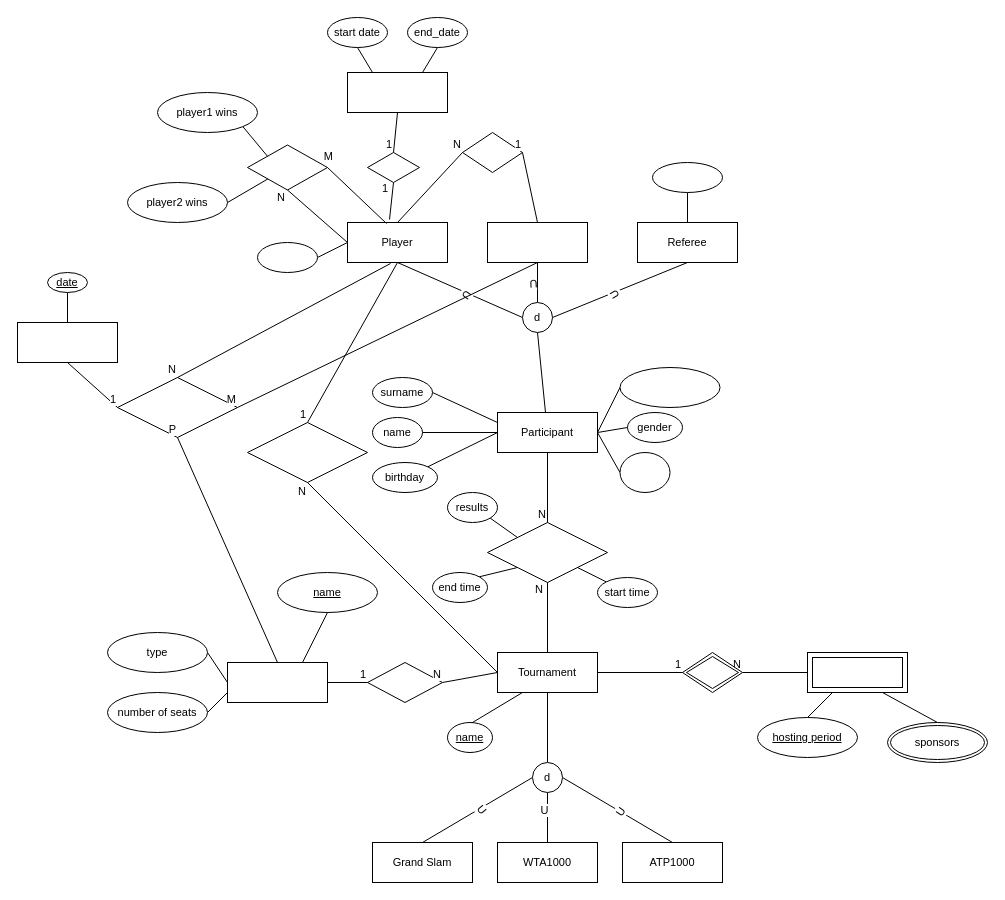
The diagram is 1005 pixels wide and 900 high, and some of its shapes have lost their labels. The centre of each missing label's shape, as x and y in pixels:
"BestPlayer" belongs at point 307,452.
"Coach" belongs at point 537,242.
"country" belongs at point 644,472.
"Court" belongs at point 277,682.
"experience" belongs at point 687,177.
"Hosts" belongs at point 404,682.
"Match" belongs at point 547,552.
"passport number" belongs at point 669,387.
"Rank" belongs at point 397,92.
"Record" belongs at point 287,167.
"TournamentHeld" belongs at point 857,672.
"Training" belongs at point 67,342.
"TrainingSession" belongs at point 177,407.
"year" belongs at point 287,257.
